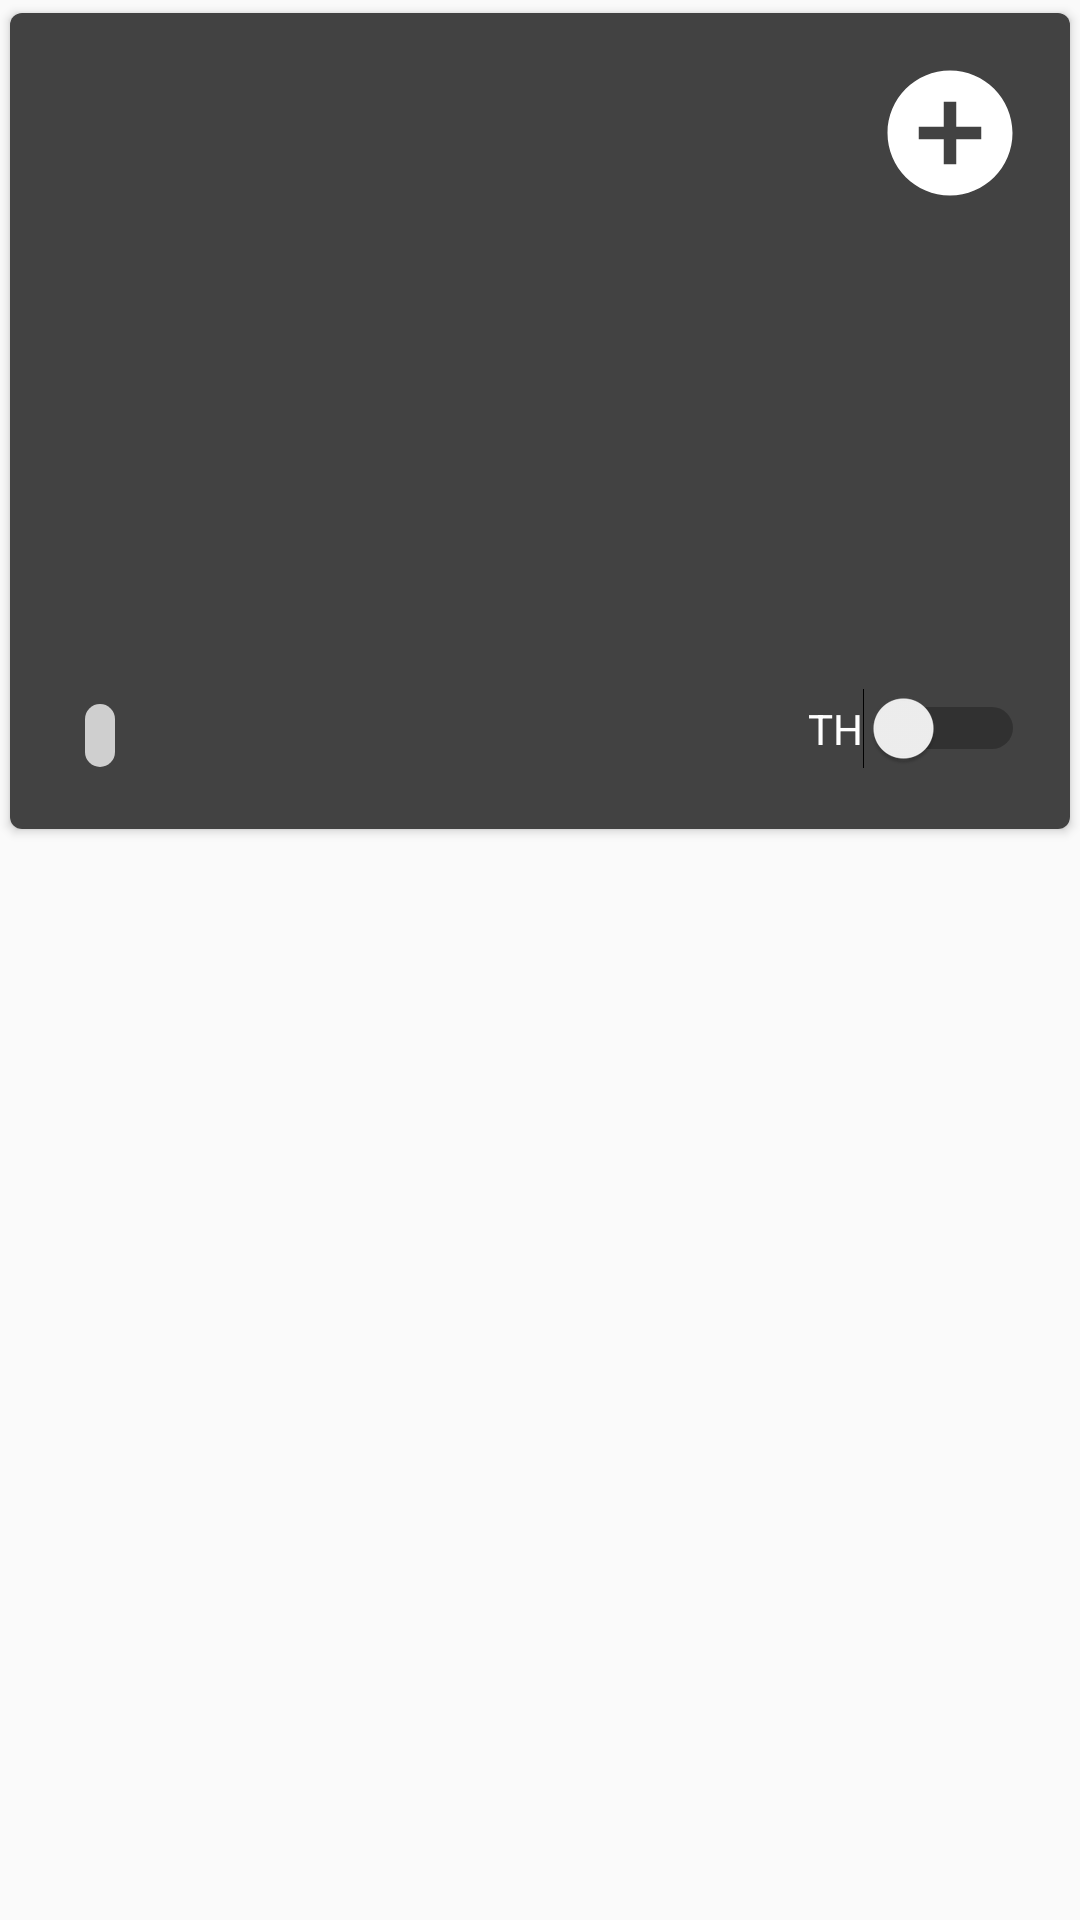

Icon click points for this 1080 × 1920 phone screenshot, format (x,y):
add circle: (950,133)
